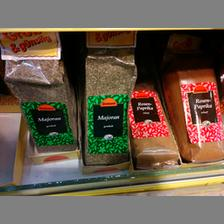Gewuerze: (81, 32, 135, 164), (3, 58, 77, 150), (164, 50, 224, 162), (129, 76, 179, 164)
